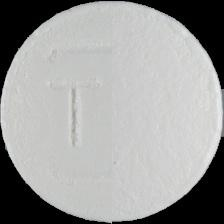0093-2056: (0, 0, 224, 224)
